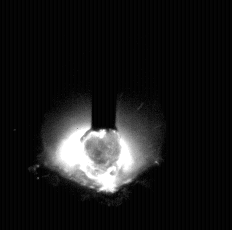arame: (92, 0, 117, 132)
poca: (41, 0, 161, 230)
